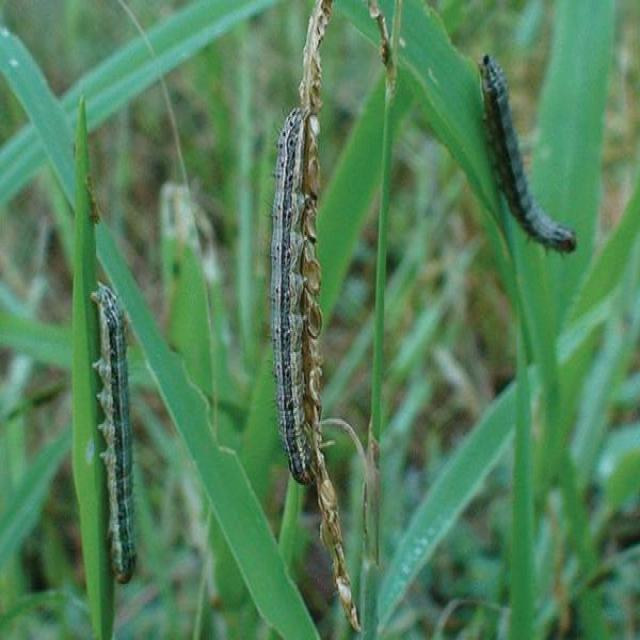pest: (481, 53, 578, 251), (277, 102, 325, 488), (97, 295, 145, 576)
